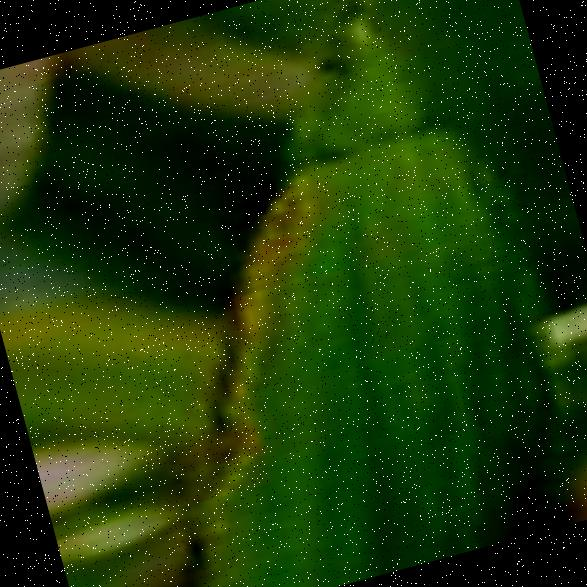Bacteria_Leaf_Blight: (17, 0, 525, 587)
